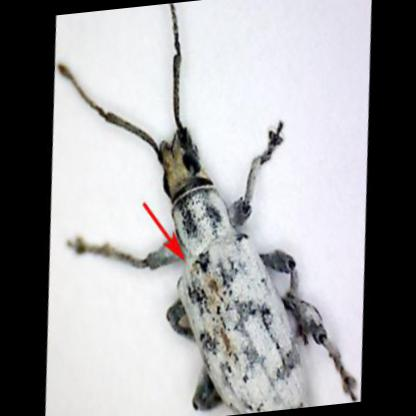ash weevil: (58, 9, 356, 416)
